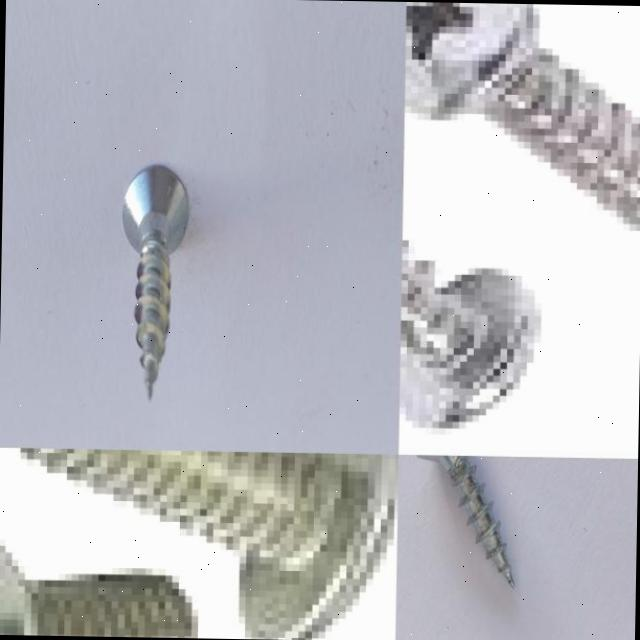Screw: (17, 448, 398, 640), (404, 1, 640, 229), (399, 243, 540, 427), (0, 529, 195, 638), (122, 167, 188, 401), (417, 455, 515, 590)
